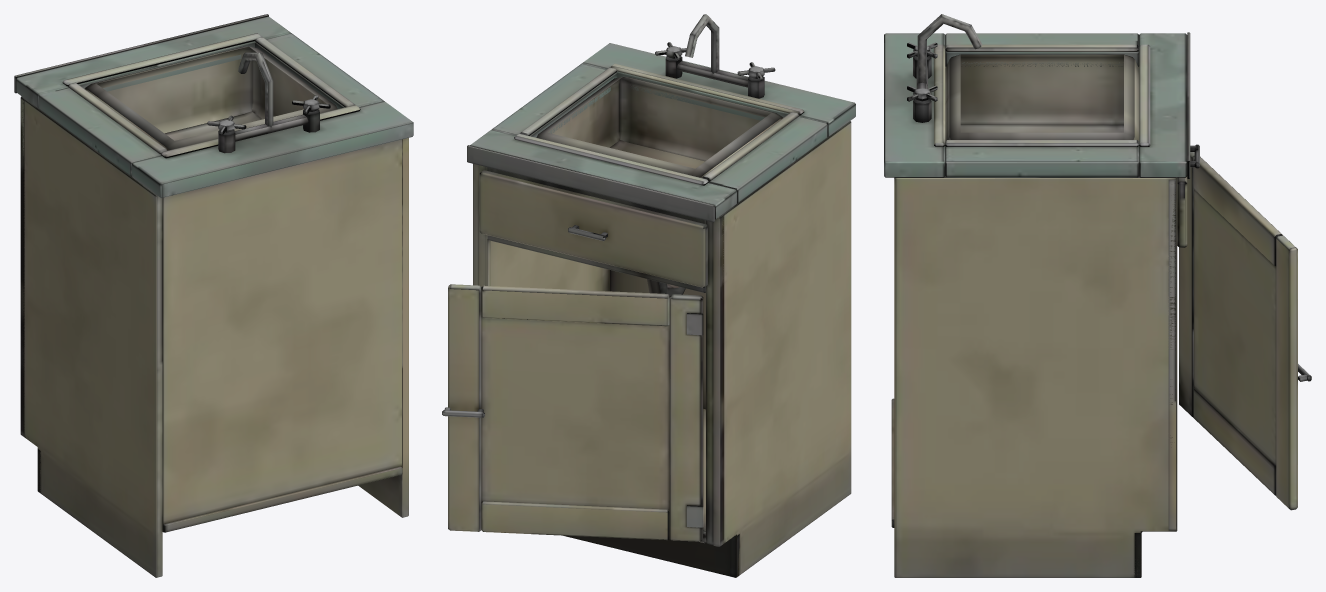
Rendered from furniture_counter_sink.glb.
3 renders of one model, left to right at view 1: azimuth 30°, elevation 25°; view 2: azimuth 150°, elevation 25°; view 3: azimuth 270°, elevation 25°, orthographic. The views are drawn at different scales.
Visible parts, largest first — view 1: furniture_counter_sink; view 2: furniture_counter_sink; view 3: furniture_counter_sink.
Part boxes in pixels (left/top/right/bottom): furniture_counter_sink: left=14, top=14, right=413, bottom=577; furniture_counter_sink: left=442, top=14, right=855, bottom=577; furniture_counter_sink: left=884, top=14, right=1311, bottom=577.
Bounding box in the file's own units: 0.6 × 1.08 × 0.8385.
Materials: 1 (1 with a texture image).
